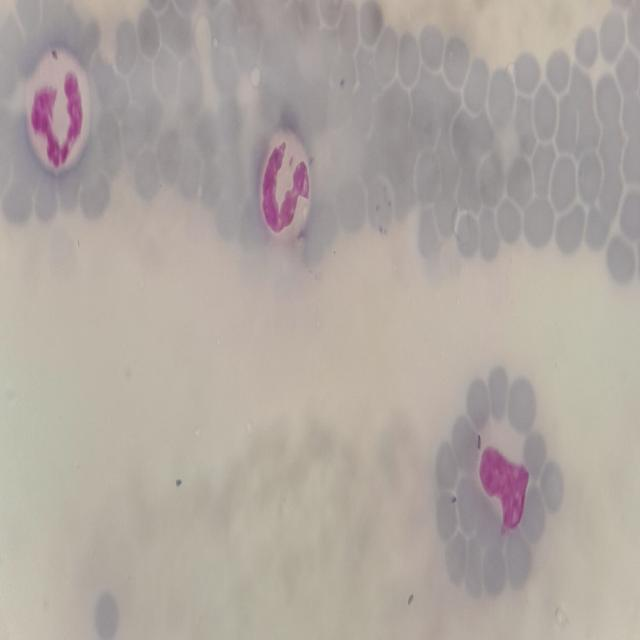Neutrofilo: (26, 43, 94, 176), (256, 126, 315, 246), (475, 415, 532, 531)
